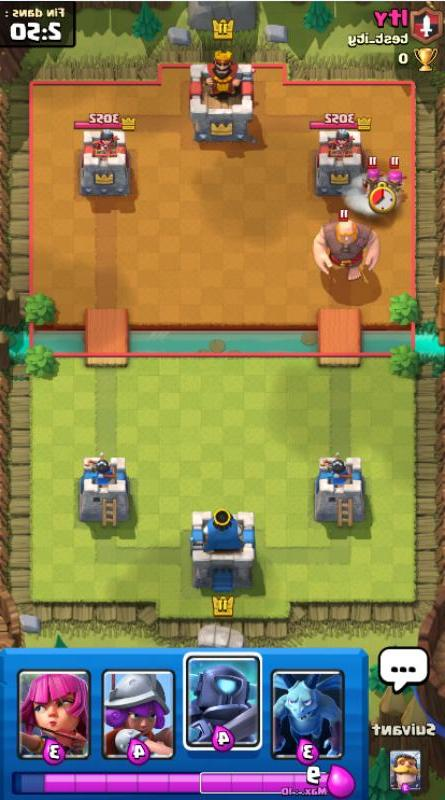archere: (383, 156, 407, 196), (360, 156, 384, 196)
geant: (313, 209, 381, 281)
